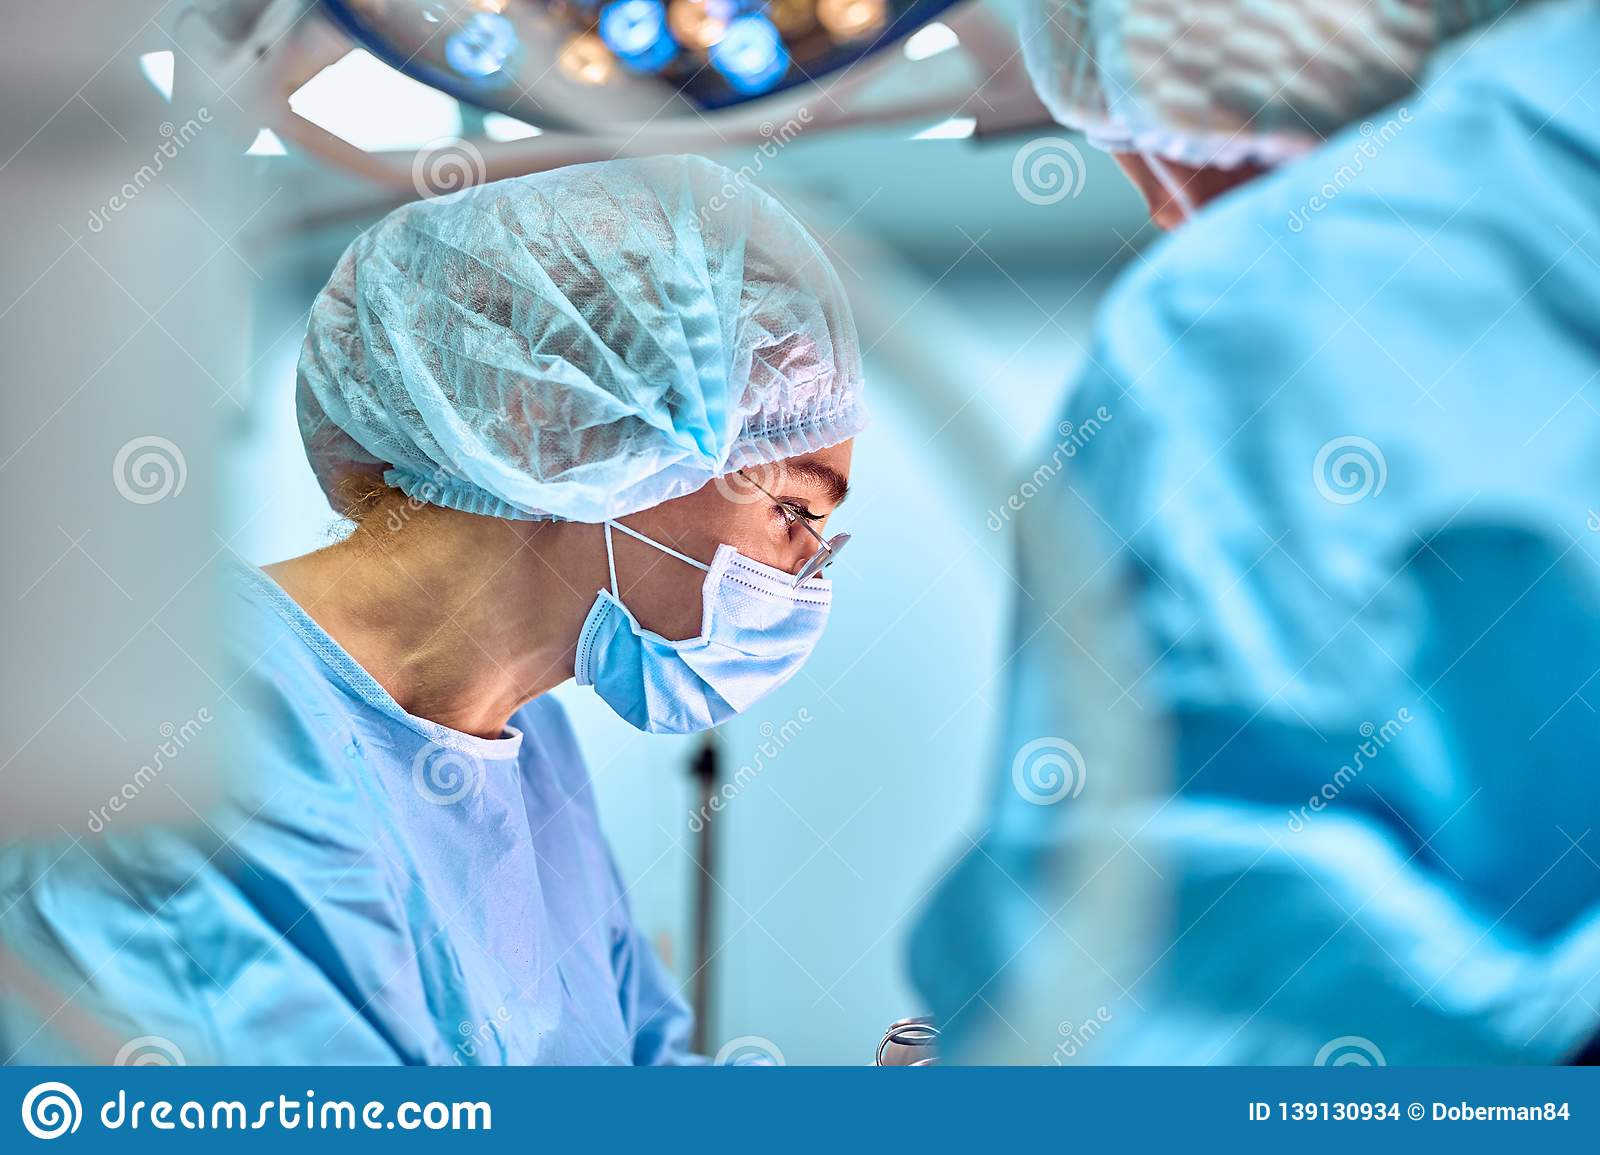mask: (575, 537, 827, 751)
